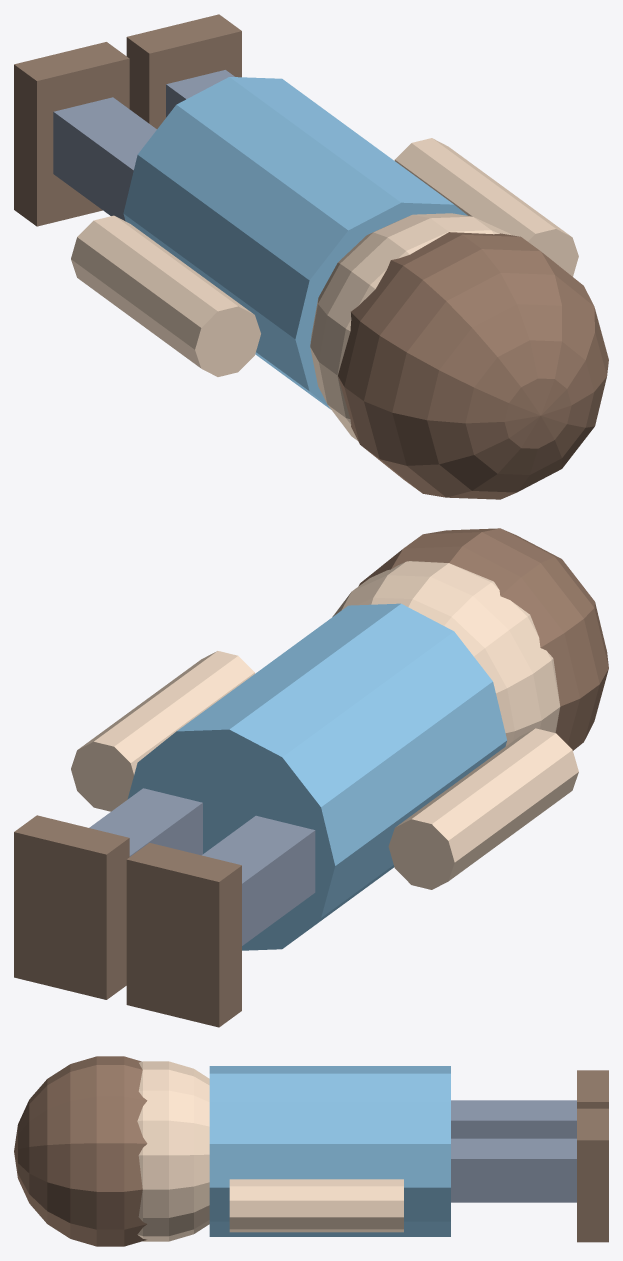
Rendered from Yusuf.glb.
The picture shows the model from 3 angles, top to bottom: view 1: azimuth 30°, elevation 25°; view 2: azimuth 150°, elevation 25°; view 3: azimuth 270°, elevation 25°; orthographic projection. The views are drawn at different scales.
Visible parts, largest first — view 1: hair, body, arm_l, boot_l, head, leg_l, arm_r, boot_r, leg_r; view 2: body, boot_l, boot_r, hair, arm_l, head, arm_r, leg_l, leg_r; view 3: body, hair, head, arm_r, leg_r, leg_l, boot_r, boot_l.
Part boxes in pixels (bbox=[...]): hair: bbox=[338, 232, 608, 499]; body: bbox=[123, 77, 467, 409]; arm_l: bbox=[71, 215, 260, 376]; boot_l: bbox=[14, 42, 129, 226]; head: bbox=[310, 213, 511, 440]; leg_l: bbox=[53, 97, 156, 221]; arm_r: bbox=[394, 138, 578, 276]; boot_r: bbox=[126, 14, 241, 128]; leg_r: bbox=[166, 70, 234, 117]; body: bbox=[127, 603, 507, 950]; boot_l: bbox=[126, 842, 241, 1027]; boot_r: bbox=[14, 815, 129, 999]; hair: bbox=[358, 528, 608, 750]; arm_l: bbox=[388, 728, 578, 889]; head: bbox=[332, 561, 560, 746]; arm_r: bbox=[71, 651, 254, 811]; leg_l: bbox=[202, 815, 315, 945]; leg_r: bbox=[89, 788, 202, 856]; body: bbox=[209, 1066, 450, 1236]; hair: bbox=[14, 1056, 147, 1246]; head: bbox=[137, 1061, 209, 1241]; arm_r: bbox=[229, 1179, 403, 1232]; leg_r: bbox=[451, 1138, 576, 1202]; leg_l: bbox=[451, 1100, 576, 1138]; boot_r: bbox=[577, 1108, 608, 1242]; boot_l: bbox=[577, 1070, 608, 1108].
Bounding box in the file's own units: 1.16 × 0.7127 × 2.22.
